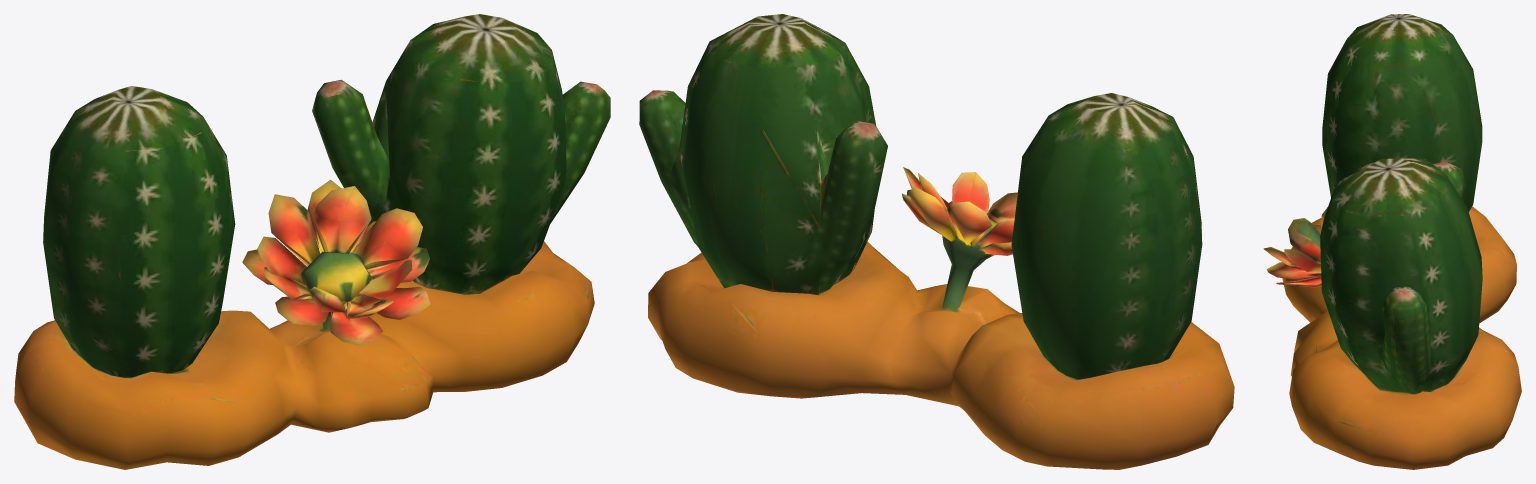
The model's file is mini-desert.glb.
3 renders of one model, left to right at view 1: azimuth 30°, elevation 25°; view 2: azimuth 150°, elevation 25°; view 3: azimuth 270°, elevation 25°, orthographic. The views are drawn at different scales.
Bounding box in the file's own units: 0.9468 × 0.5137 × 0.4384.
1 material, 1 textured.
